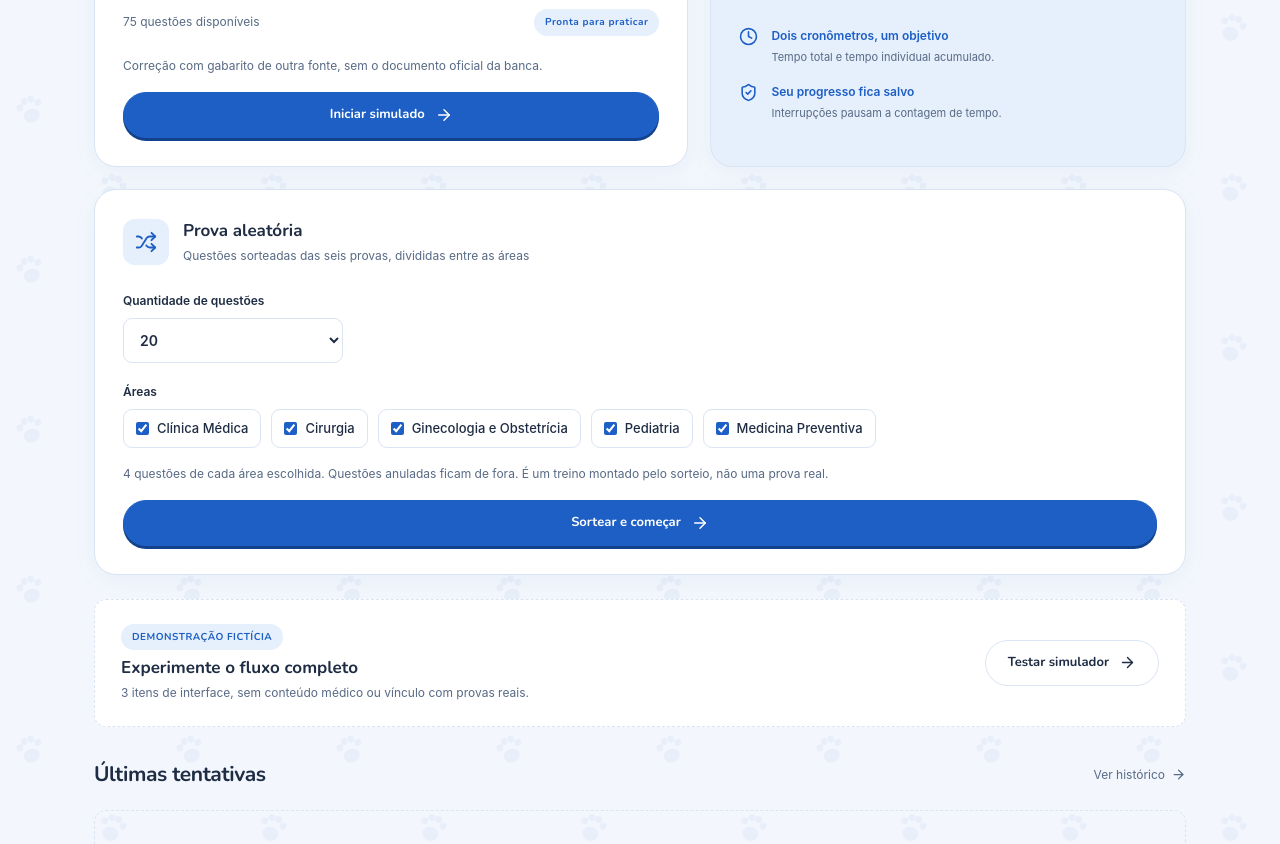
Test: Prova aleatória › não deixa sortear sem nenhuma área
This screenshot has width=1280, height=844.
(page scrolled)
Click the checkbox labelled "Clínica Médica" at (142, 428), box [136,422,149,435]
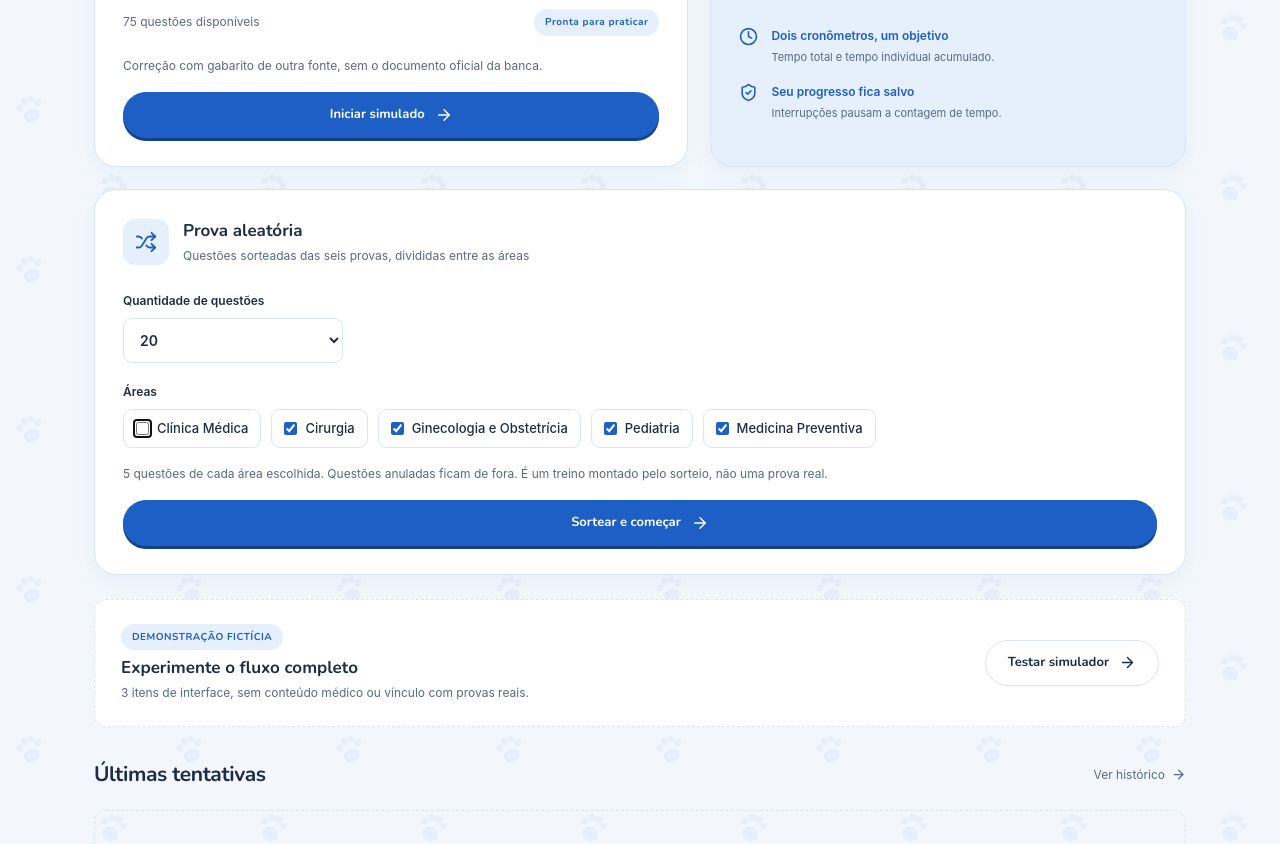
Click the checkbox labelled "Cirurgia" at (291, 428), box [284,422,298,435]
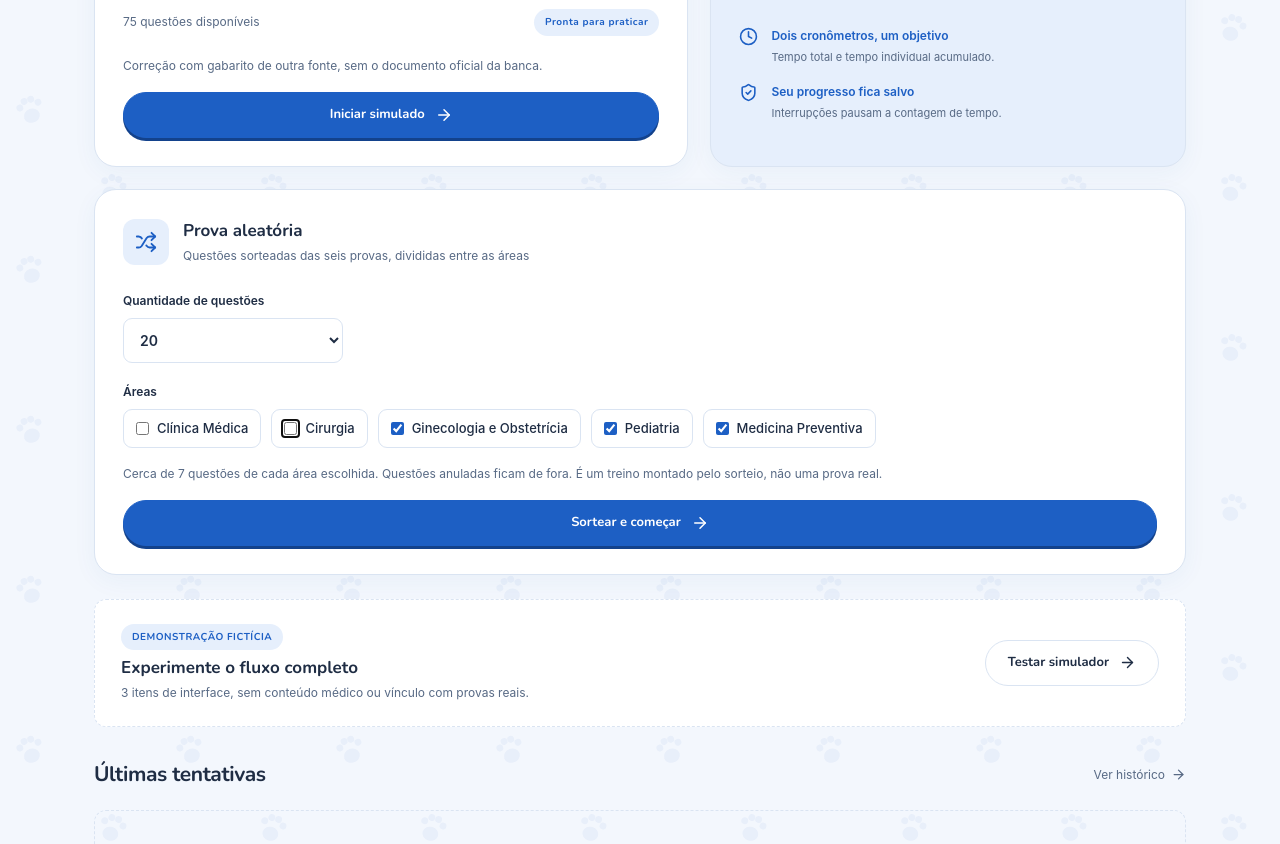
Click the checkbox labelled "Ginecologia e Obstetrícia" at (397, 428), box [391,422,404,435]
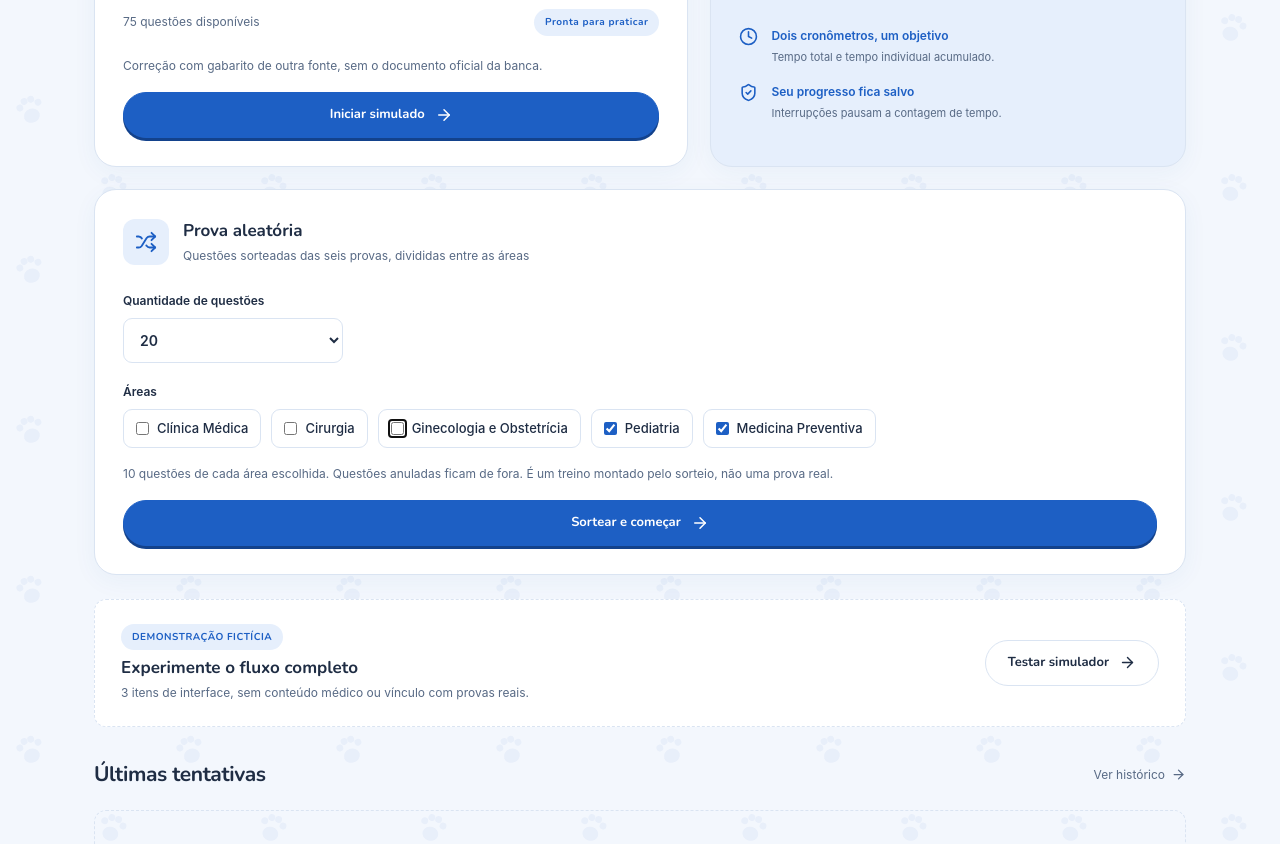
Click the checkbox labelled "Pediatria" at (610, 428), box [604,422,617,435]
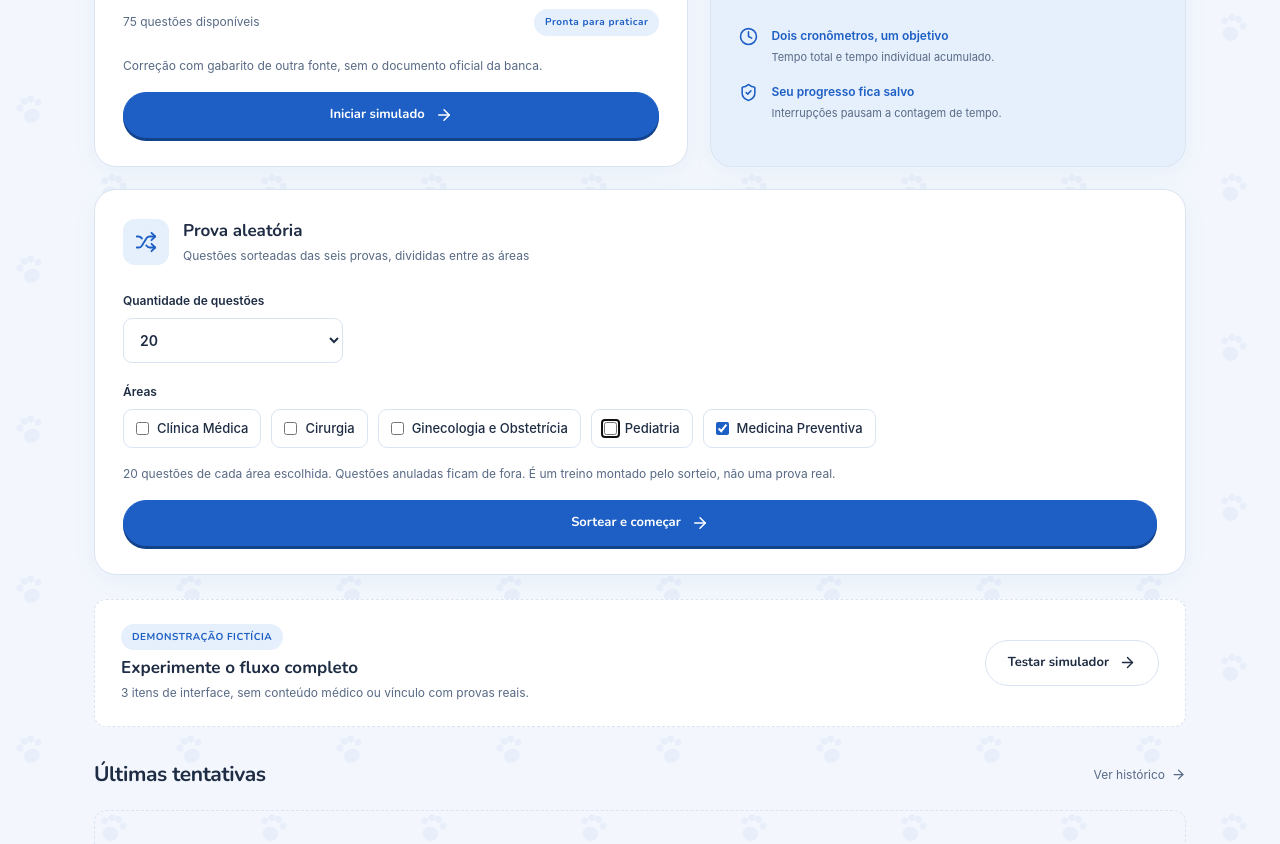
Click the checkbox labelled "Medicina Preventiva" at (722, 428), box [716,422,729,435]
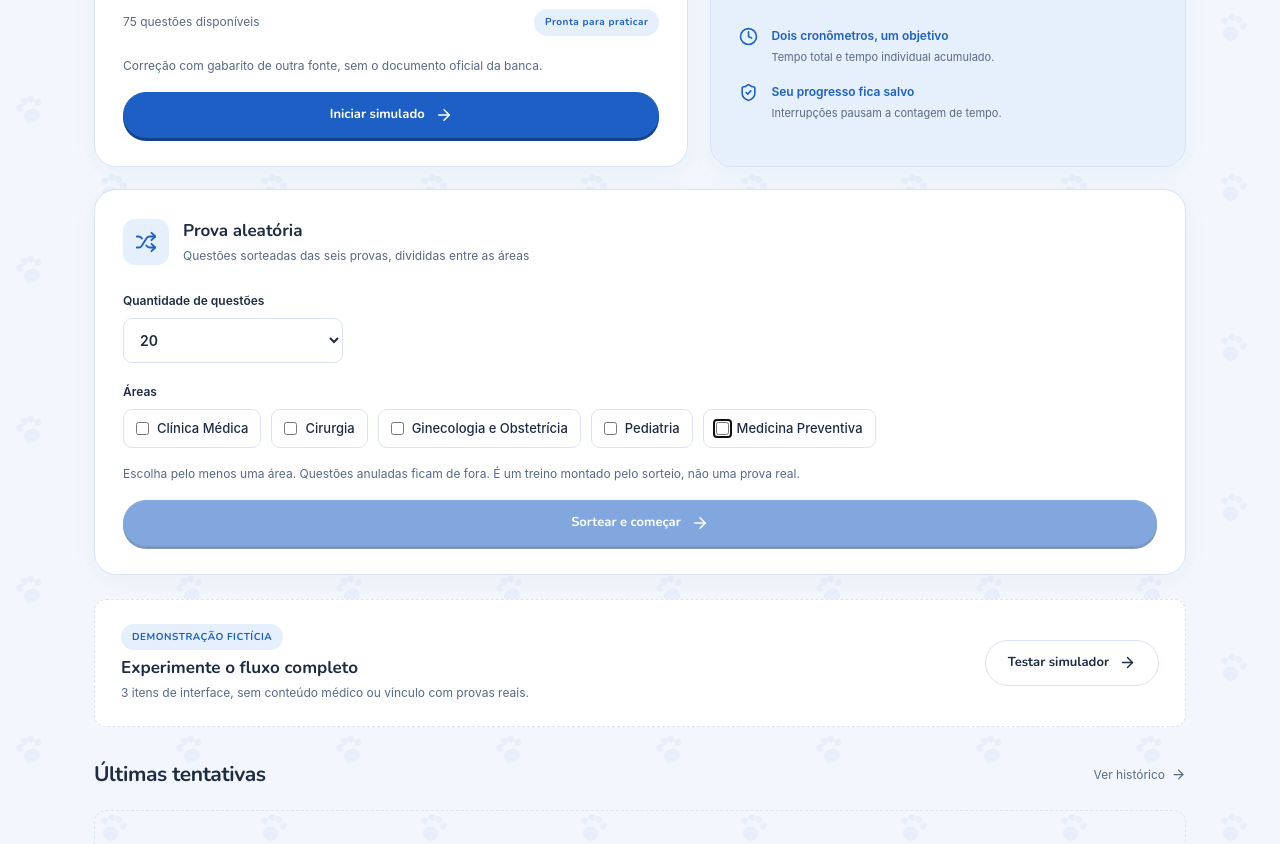
Now the text "Escolha pelo menos uma área" is shown, box [123,466,296,481]
Now the button "Sortear e começar" is disabled, box [123,500,1157,546]
